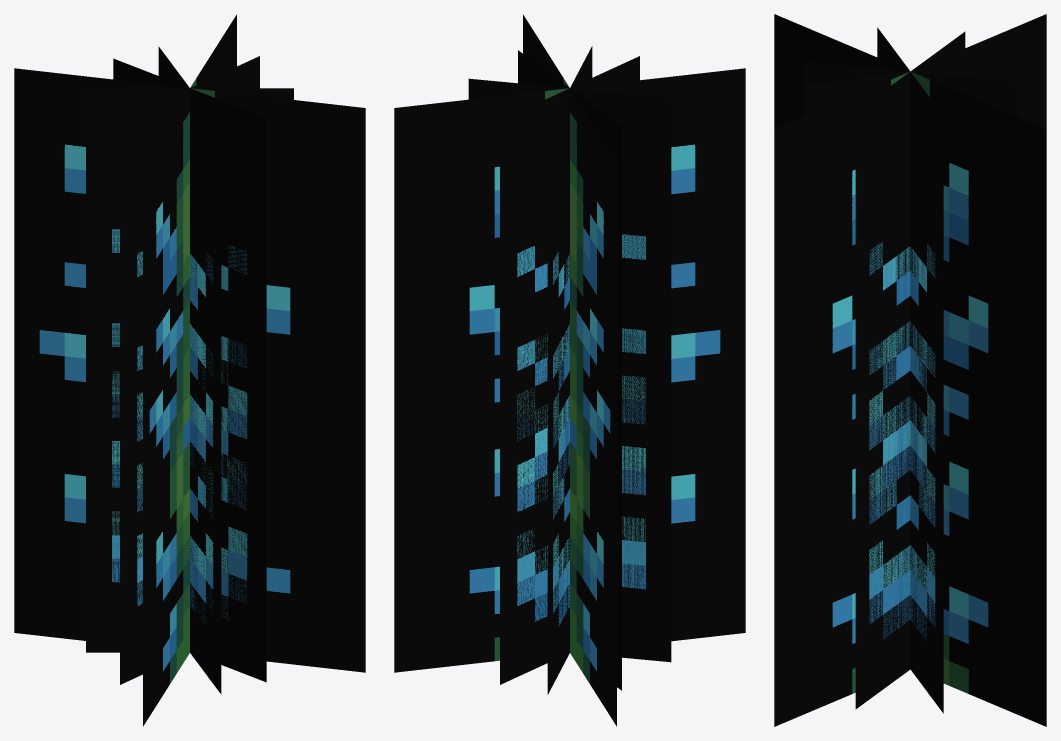
The model's file is deadwood_twister.obj.
The picture shows the model from 3 angles, left to right: view 1: azimuth 30°, elevation 25°; view 2: azimuth 150°, elevation 25°; view 3: azimuth 270°, elevation 25°; orthographic projection. The views are drawn at different scales.
Visible parts, largest first — view 1: cube1, cube0, cube4, cube2, cube3, cube5; view 2: cube0, cube5, cube3, cube1, cube4, cube2; view 3: cube0, cube1, cube2, cube5, cube3, cube4.
Boxes of the visible parts, x1,y1,x2,y2 form: cube1: (14,68,365,672); cube0: (143,14,236,726); cube4: (113,58,266,682); cube2: (86,88,293,652); cube3: (158,46,221,694); cube5: (120,56,259,684); cube0: (394,68,745,672); cube5: (468,78,671,662); cube3: (500,56,639,684); cube1: (523,14,616,726); cube4: (547,46,592,694); cube2: (518,50,621,690); cube0: (774,14,1046,726); cube1: (774,14,1046,726); cube2: (855,31,965,709); cube5: (877,27,943,713); cube3: (803,61,1017,116); cube4: (805,57,1015,115).
Bounding box in the file's own units: 0.6187 × 1.5 × 0.6187.
